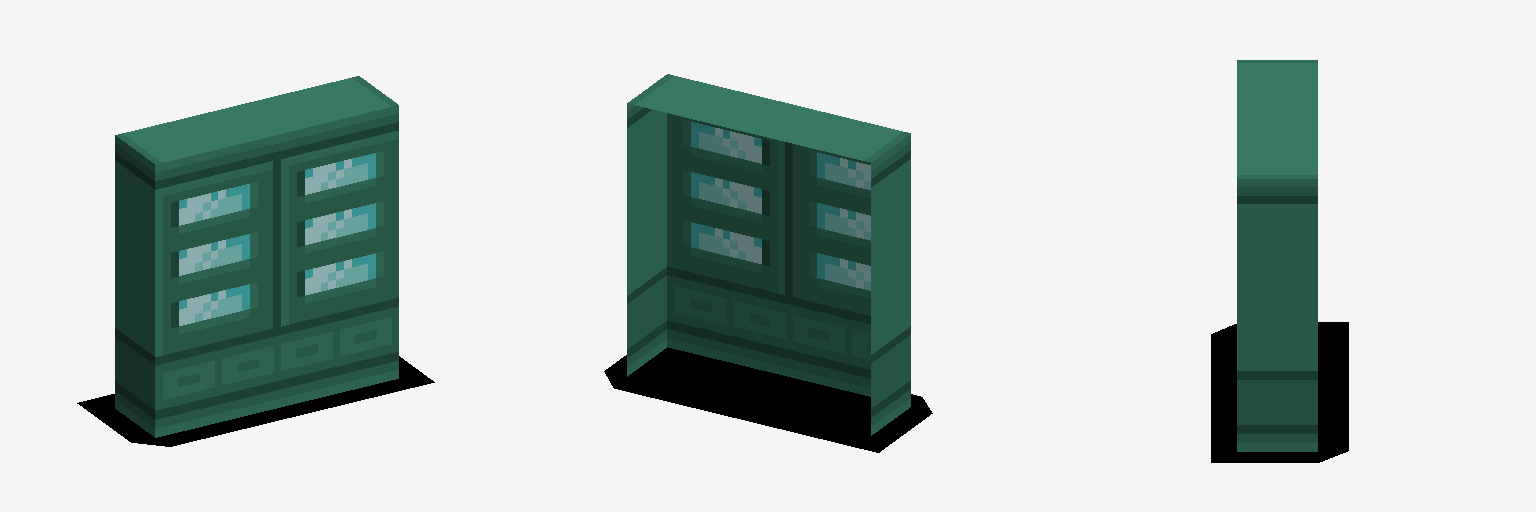
3 renders of one model, left to right at view 1: azimuth 30°, elevation 25°; view 2: azimuth 150°, elevation 25°; view 3: azimuth 270°, elevation 25°, orthographic.
Parts seen in each view (by area): view 1: polygon0, polygon1; view 2: polygon0, polygon1; view 3: polygon0, polygon1.
Part boxes in pixels (x1,y1,x2,y2): polygon0: (115, 76, 398, 437); polygon1: (77, 356, 434, 446); polygon0: (627, 74, 910, 435); polygon1: (604, 347, 932, 452); polygon0: (1237, 60, 1317, 451); polygon1: (1211, 322, 1348, 462).
Bounding box in the file's own units: 4.16 × 3.75 × 1.71.
2 materials, 1 textured.